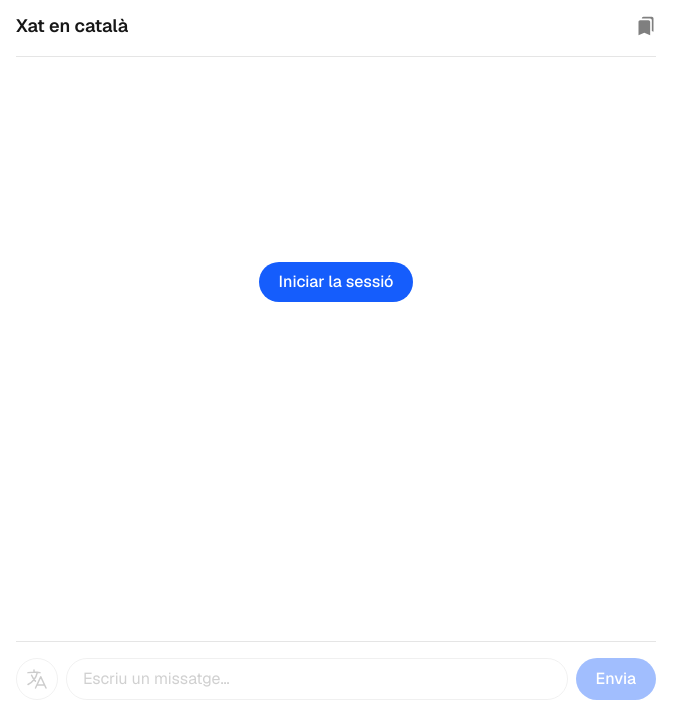
Scenario: hearing a reply › ends the sound when it is muted under the reply
What coordinates should you click on to do the following:
click the button "Iniciar la sessió"
I would click on:
 (336, 282)
Its box is [258,262,414,302].
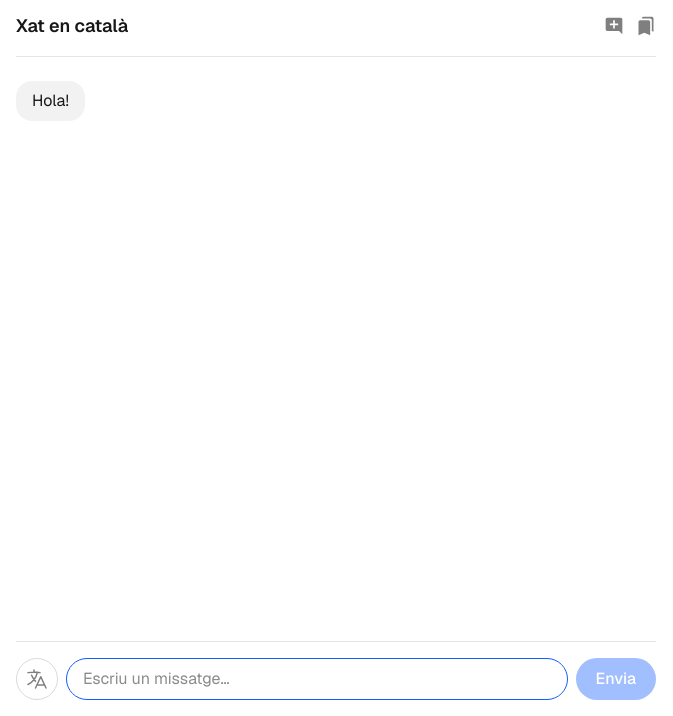
What coordinates should you click on to do the following:
click the text "Hola!"
I would click on:
 (50, 101)
Its box is [32,89,69,113].
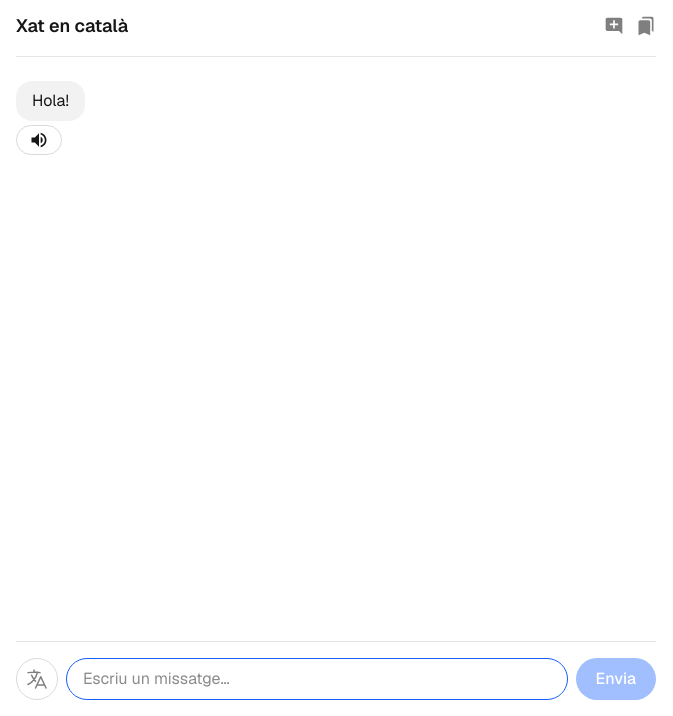
What coordinates should you click on to do the following:
click the button named "Escolta"
I would click on:
 (39, 140)
Its box is [16,125,62,155].
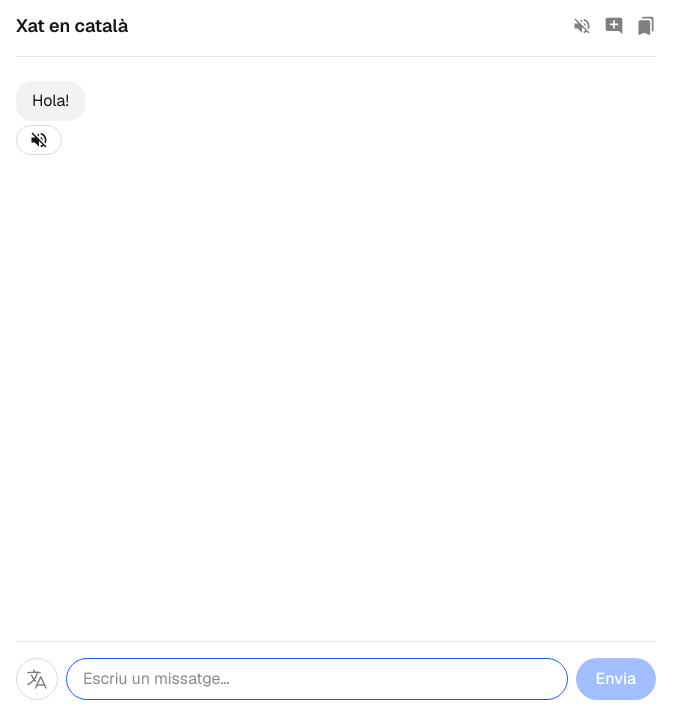
What coordinates should you click on to do the following:
click the button named "Silencia" below "Hola!"
I would click on:
 (39, 140)
Its box is [16,125,62,155].
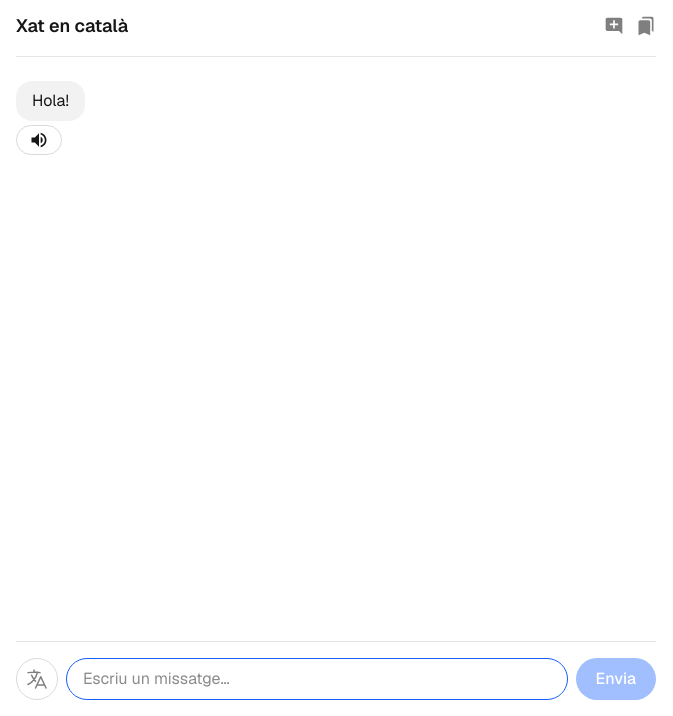
Check: the button "Silencia" is gone
Check: the button named "Escolta" is shown, box [16,125,62,155]
